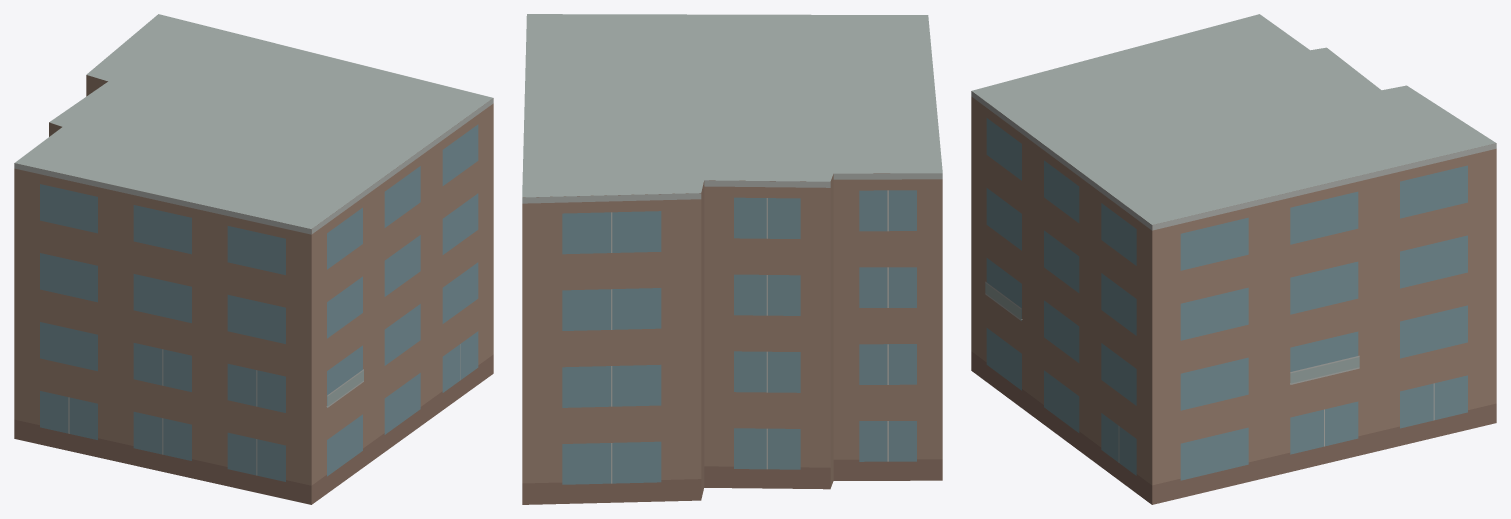
File: survey-upis-32683113.glb
3 views of the same model, side by side, from view 1: azimuth 30°, elevation 25°; view 2: azimuth 150°, elevation 25°; view 3: azimuth 270°, elevation 25° (orthographic). The views are drawn at different scales.
Visible parts, largest first — view 1: survey-upis-32683113.tmp; view 2: survey-upis-32683113.tmp; view 3: survey-upis-32683113.tmp.
Boxes of the visible parts, box(x1,y1,x2,y2) form: survey-upis-32683113.tmp: box(14, 14, 493, 504); survey-upis-32683113.tmp: box(522, 14, 942, 504); survey-upis-32683113.tmp: box(971, 14, 1496, 504).
Size of the model in its own units: 19.74 by 12.2 by 20.76.
